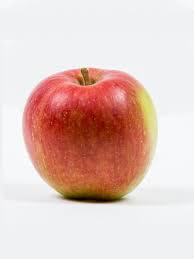apple: (20, 66, 159, 204)
